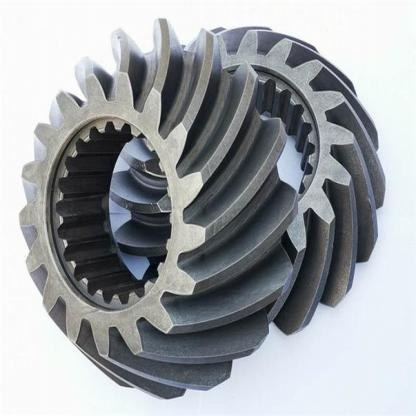FOD: (19, 11, 302, 403), (99, 19, 389, 342)
